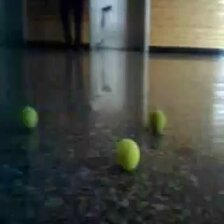tennis: (115, 138, 140, 171), (19, 105, 40, 129)
